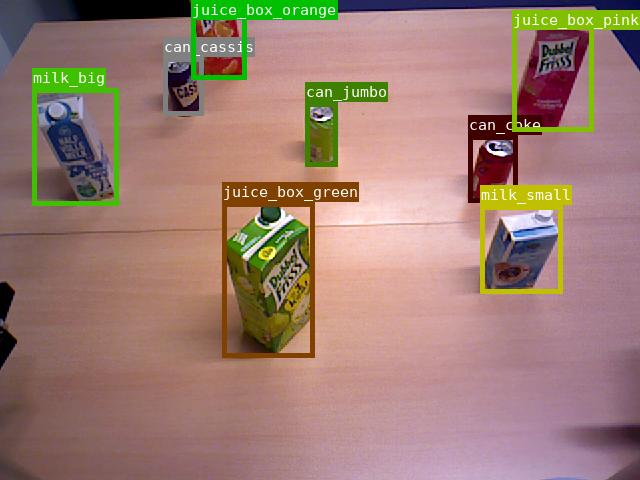can_cassis: (163, 57, 203, 115)
can_coke: (468, 135, 517, 202)
can_jumbo: (305, 102, 337, 166)
juice_box_green: (222, 202, 314, 357)
juice_box_orange: (191, 0, 246, 79)
juice_box_pink: (512, 10, 593, 131)
milk_big: (32, 88, 118, 205)
milk_small: (480, 205, 562, 293)
